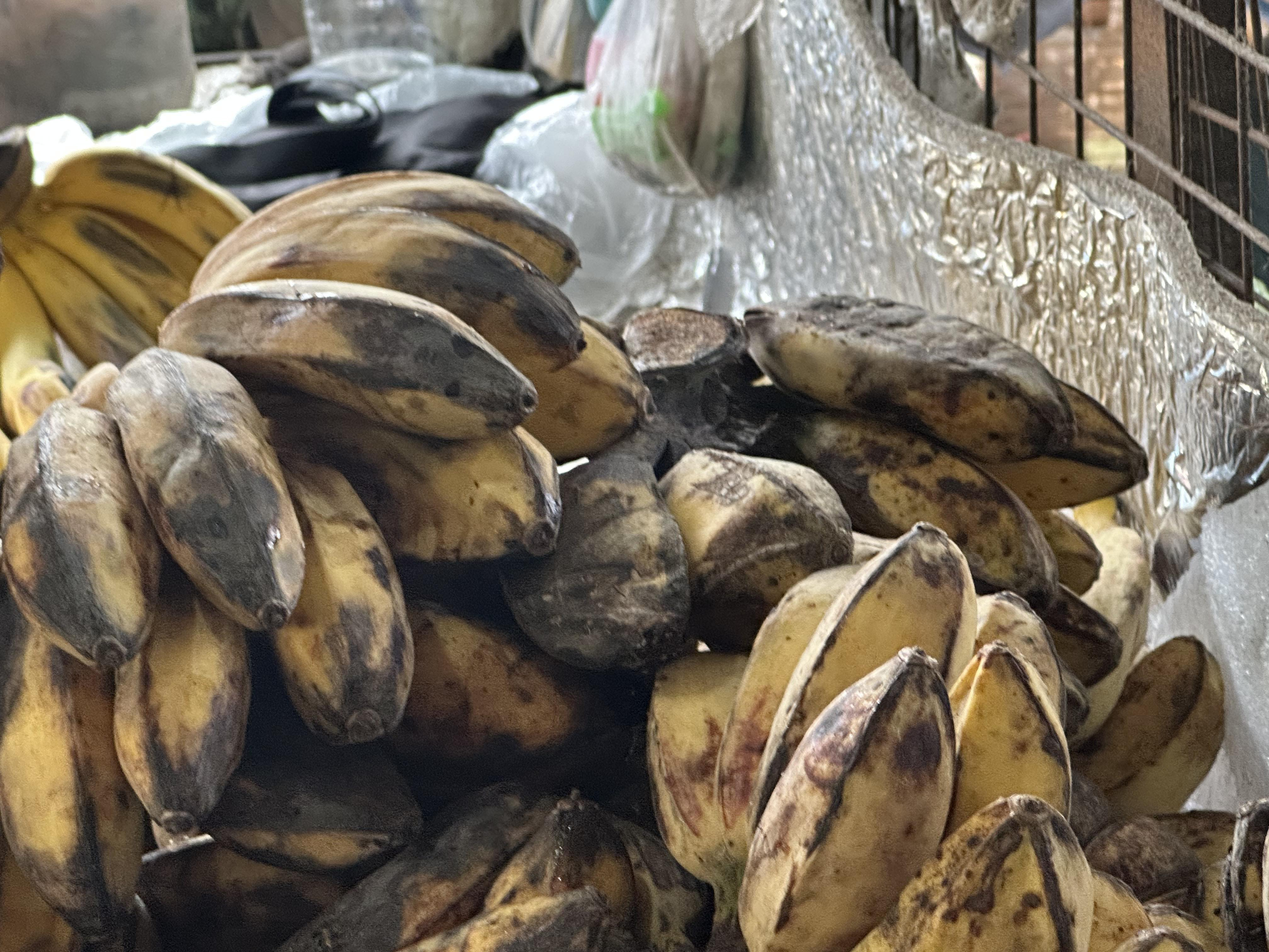overripe: (503, 296, 1147, 685), (202, 562, 623, 875), (281, 784, 711, 952)
ripe: (0, 167, 659, 944), (647, 523, 1093, 952)
